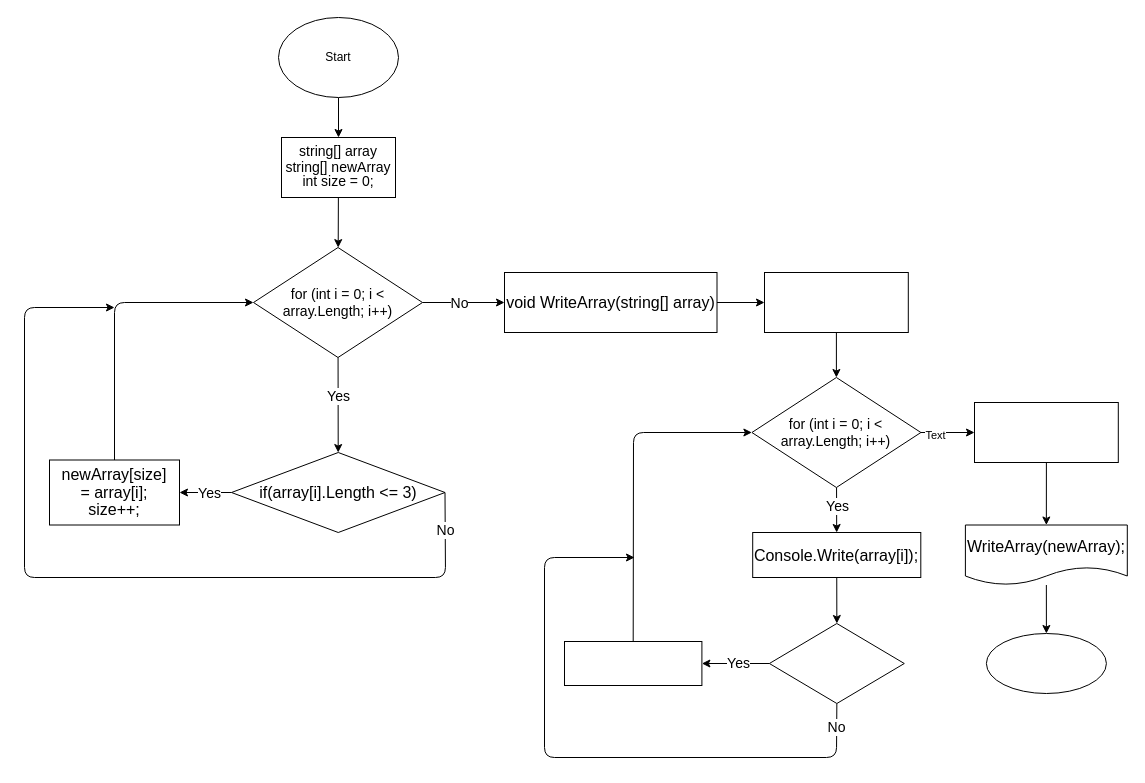
Image size: 1145x783. Some labels were removed from this diagram. The shapes that lost their labels are listed below. From the top down, each one's box as (x1, y1, x2, y2) in pixels, then its label:
(764, 272, 908, 332): Console.Write("[ ");
(974, 402, 1118, 462): Console.Write(" ]");
(564, 640, 702, 686): Console.Write(", ");
(768, 622, 904, 704): if(i < size - 1)
(985, 632, 1106, 694): End
